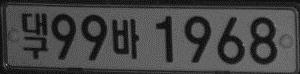1: (154, 14, 179, 62)
6: (217, 17, 245, 64)
8: (249, 16, 278, 64)
9: (80, 13, 108, 61), (183, 15, 211, 63), (50, 12, 76, 60)
대구_V: (21, 12, 49, 60)
바: (111, 18, 139, 59)
